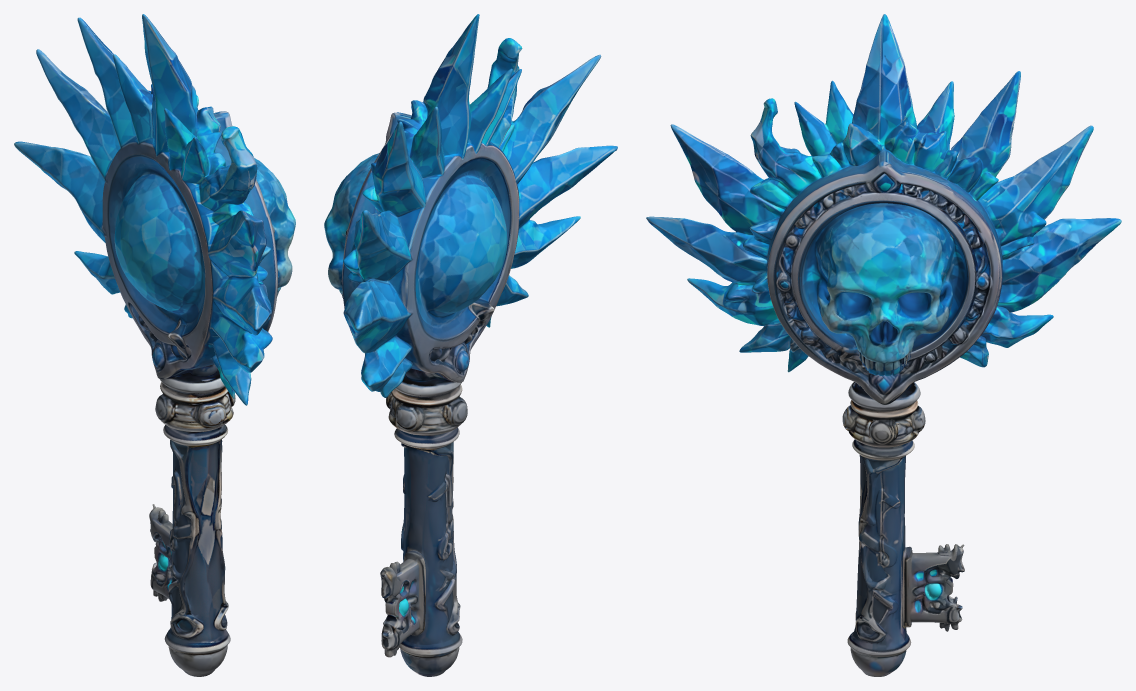
File: tripo_pbr_model_78a64e12-96fd-4ce7-ad2a-79ea496bc208.fbx
3 views of the same model, side by side, from view 1: azimuth 30°, elevation 25°; view 2: azimuth 150°, elevation 25°; view 3: azimuth 270°, elevation 25° (orthographic). The views are drawn at different scales.
Parts seen in each view (by area): view 1: Object_01; view 2: Object_01; view 3: Object_01.
Boxes of the visible parts, x1=… form: Object_01: x1=14, y1=14, x2=295, y2=676; Object_01: x1=324, y1=14, x2=617, y2=676; Object_01: x1=646, y1=14, x2=1121, y2=676.
Bounding box in the file's own units: 2.97 × 12 × 8.11.
